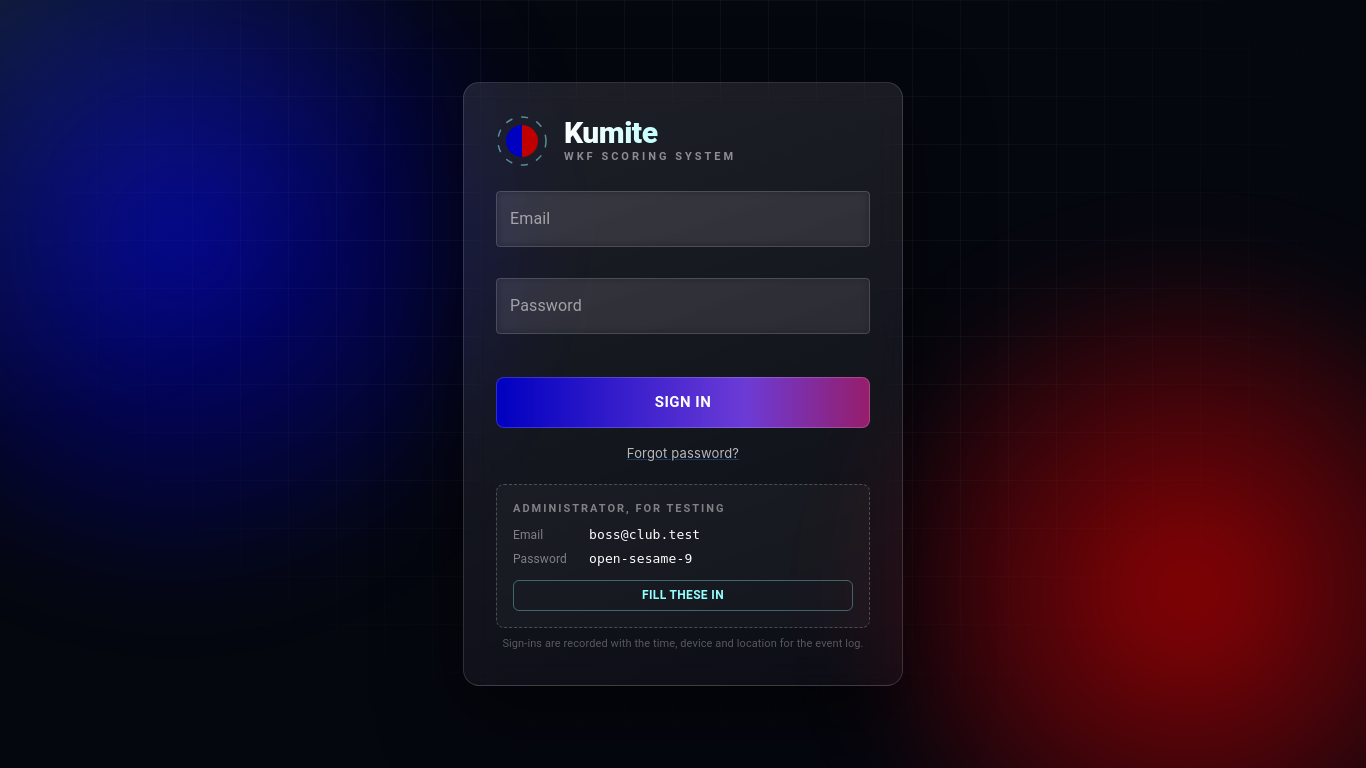
Test: Login › fills the form from the credentials it was shown
The width and height of the screenshot is (1366, 768).
Click the button "Fill these in": x=683, y=596 left=513, top=580, right=853, bottom=611
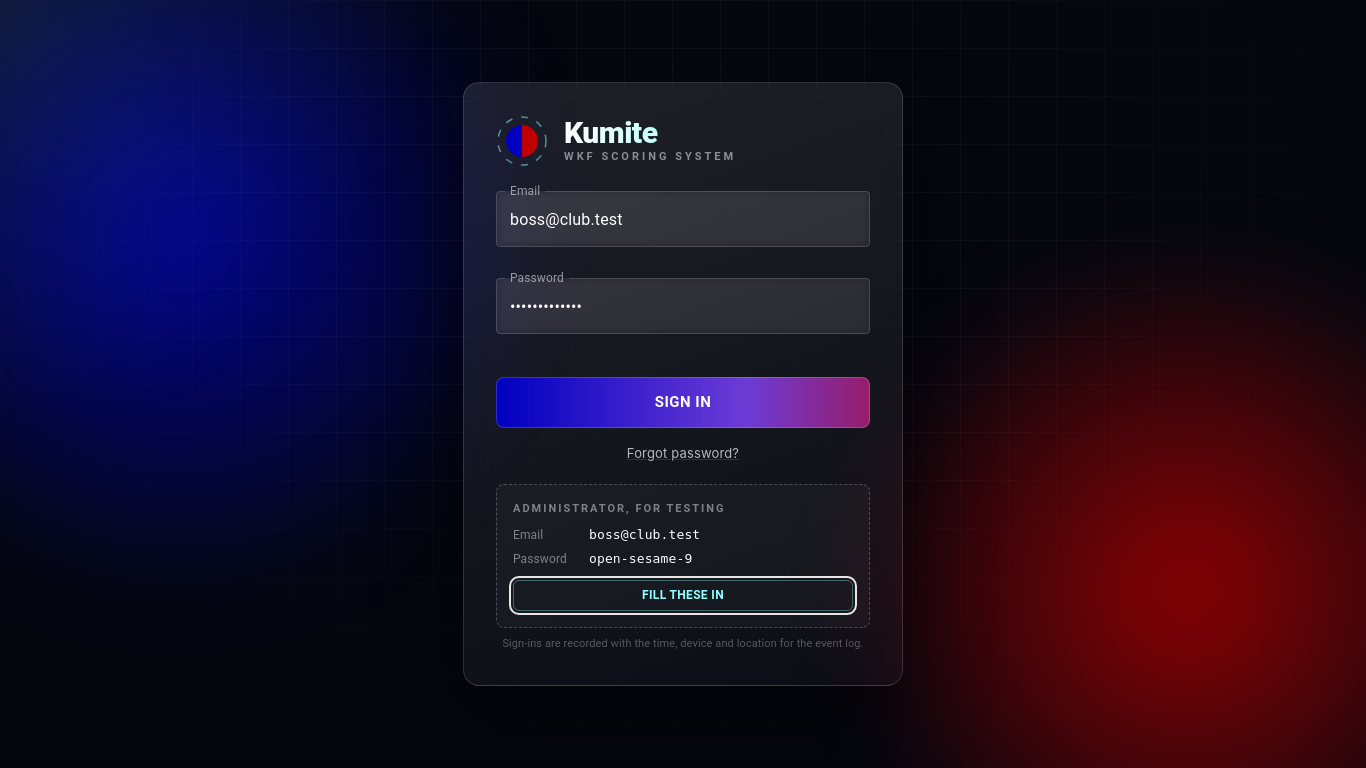
Result: the field labelled "Email" holds "boss@club.test" at left=496, top=191, right=870, bottom=247
Result: the password field labelled "Password" holds "open-sesame-9" at left=496, top=278, right=870, bottom=334
